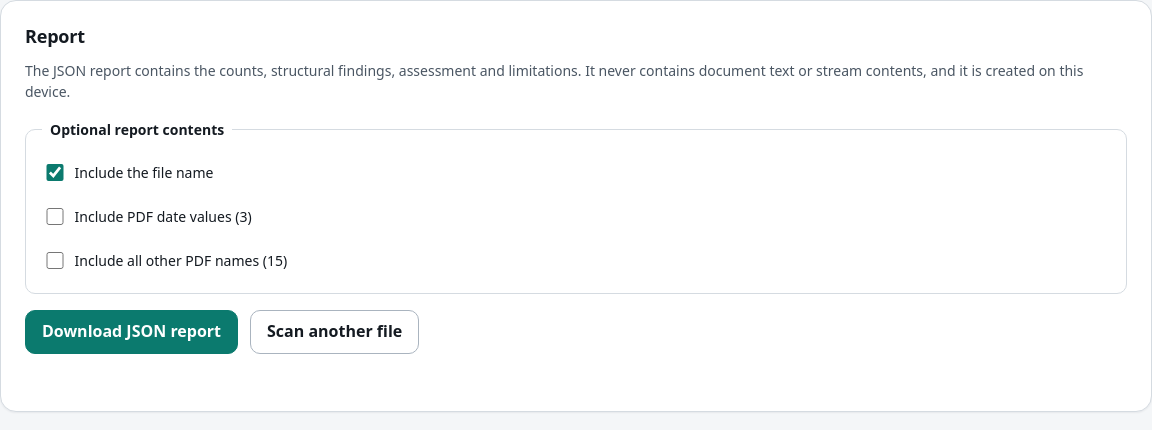
Test: ReportActions › reports an unexpected exception without exposing its text
Click the button "Download JSON report". click: click(132, 332)
box: [25,310,238,354]
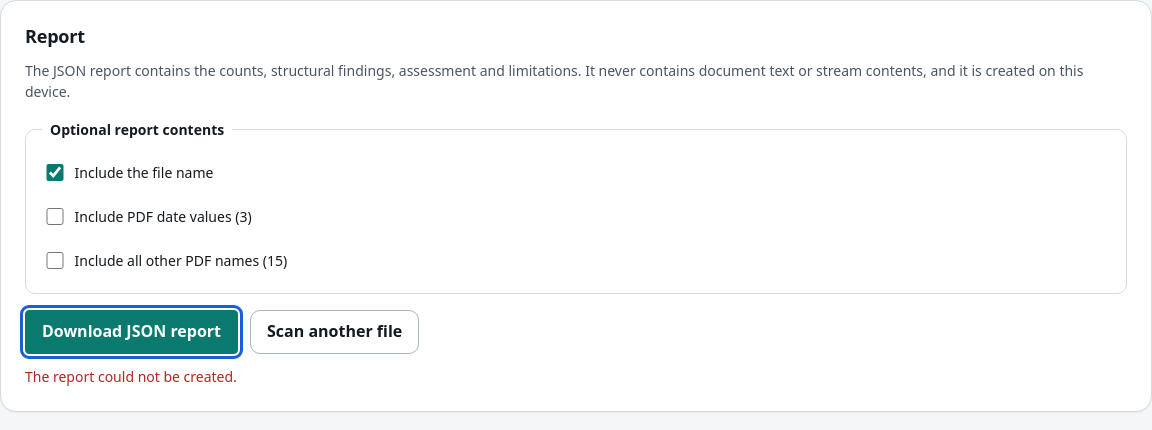
Expected: the message with test id "report-status" reads "The report could not be created.", [25,367,237,386]
